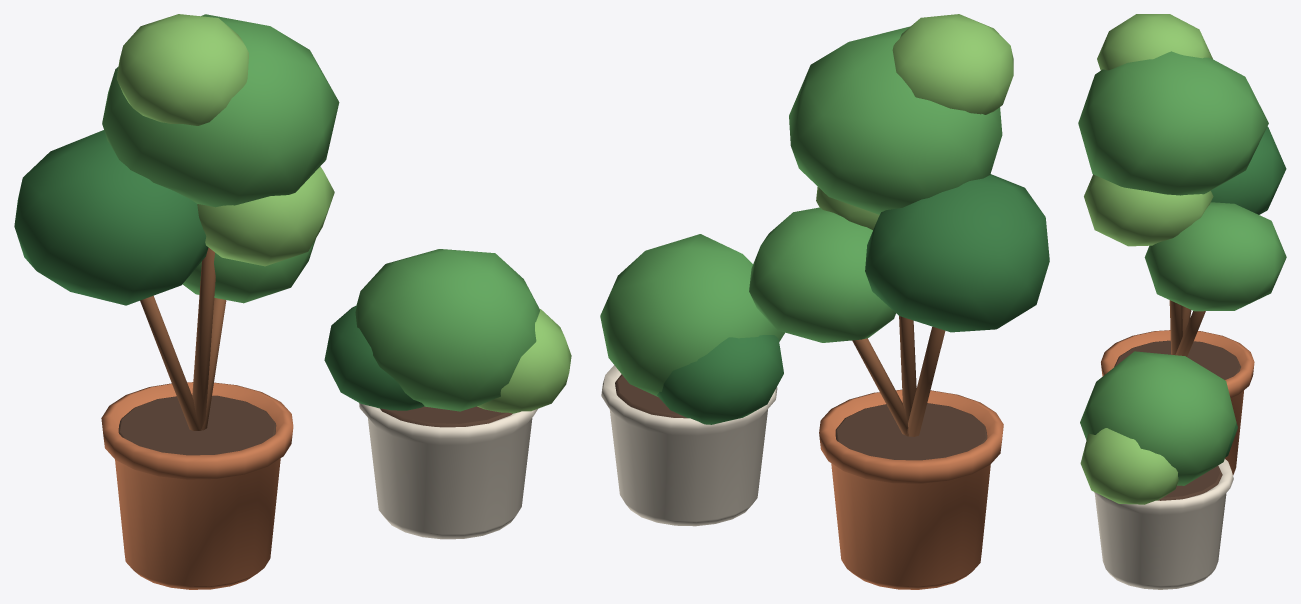
The model's file is plant_wall_l1.glb.
3 renders of one model, left to right at view 1: azimuth 30°, elevation 25°; view 2: azimuth 150°, elevation 25°; view 3: azimuth 270°, elevation 25°, orthographic. The views are drawn at different scales.
Visible parts, largest first — view 1: plant_wall_l1; view 2: plant_wall_l1; view 3: plant_wall_l1.
Part boxes in pixels (<box>): plant_wall_l1: <box>14,14,571,589</box>; plant_wall_l1: <box>600,14,1049,589</box>; plant_wall_l1: <box>1078,14,1286,589</box>.
Bounding box in the file's own units: 1.32 × 1.44 × 0.6105.
